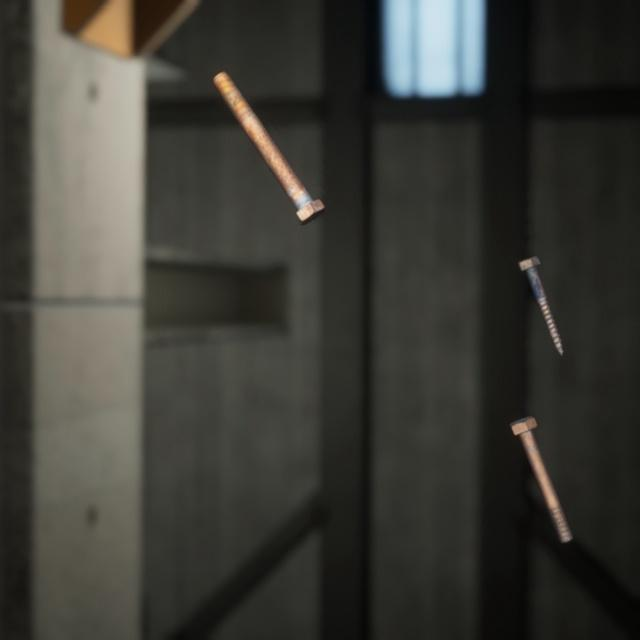bolt: (208, 53, 329, 215), (503, 390, 577, 526), (511, 234, 568, 342)
